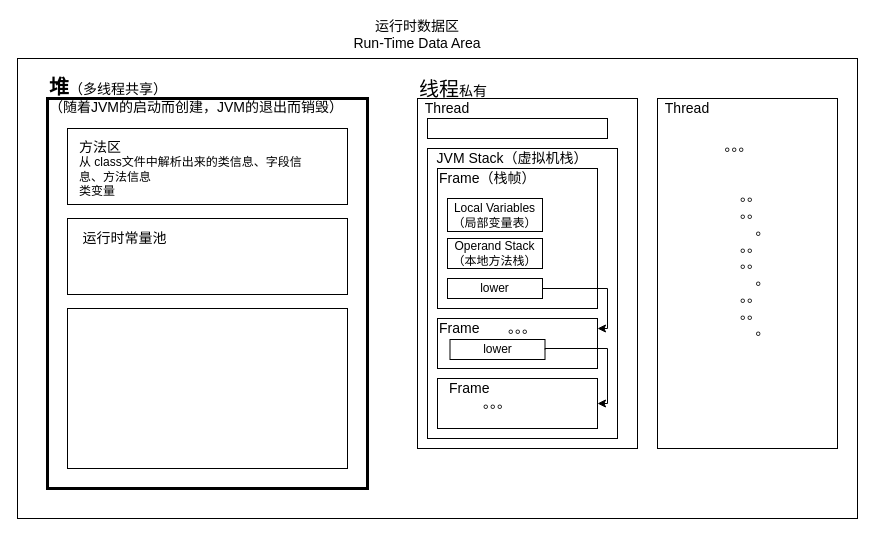
Some shapes in this 875 by 536 pixel diagram are drawn without their labels. The shapes that lost their labels are listed below. From the top down, each one's centre as x and y in pixels, then its label:
pixel 517 128: PC寄存器（Program Counter)
pixel 207 388: 类实例（堆）
